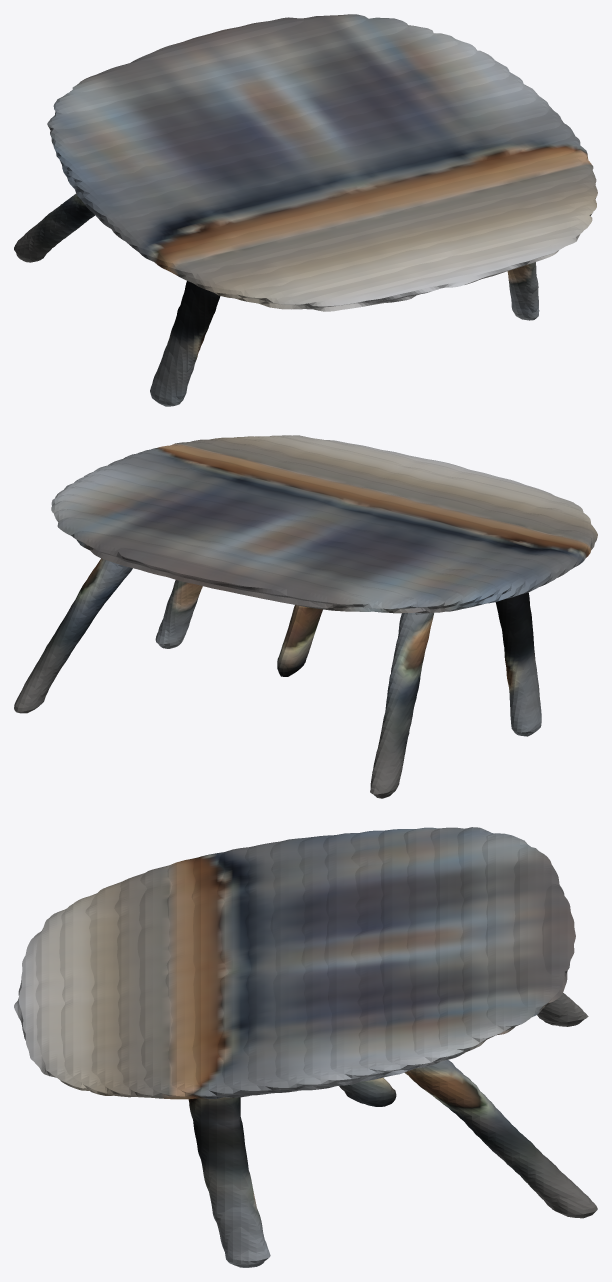
File: table-002.glb
The picture shows the model from 3 angles, top to bottom: view 1: azimuth 30°, elevation 25°; view 2: azimuth 150°, elevation 25°; view 3: azimuth 270°, elevation 25°; orthographic projection. The views are drawn at different scales.
Parts seen in each view (by area): view 1: geometry_0; view 2: geometry_0; view 3: geometry_0.
Boxes of the visible parts, x1,y1,x2,y2 form: geometry_0: (14,14,597,406); geometry_0: (14,435,597,798); geometry_0: (14,827,597,1267).
Bounding box in the file's own units: 90 × 42 × 90.
